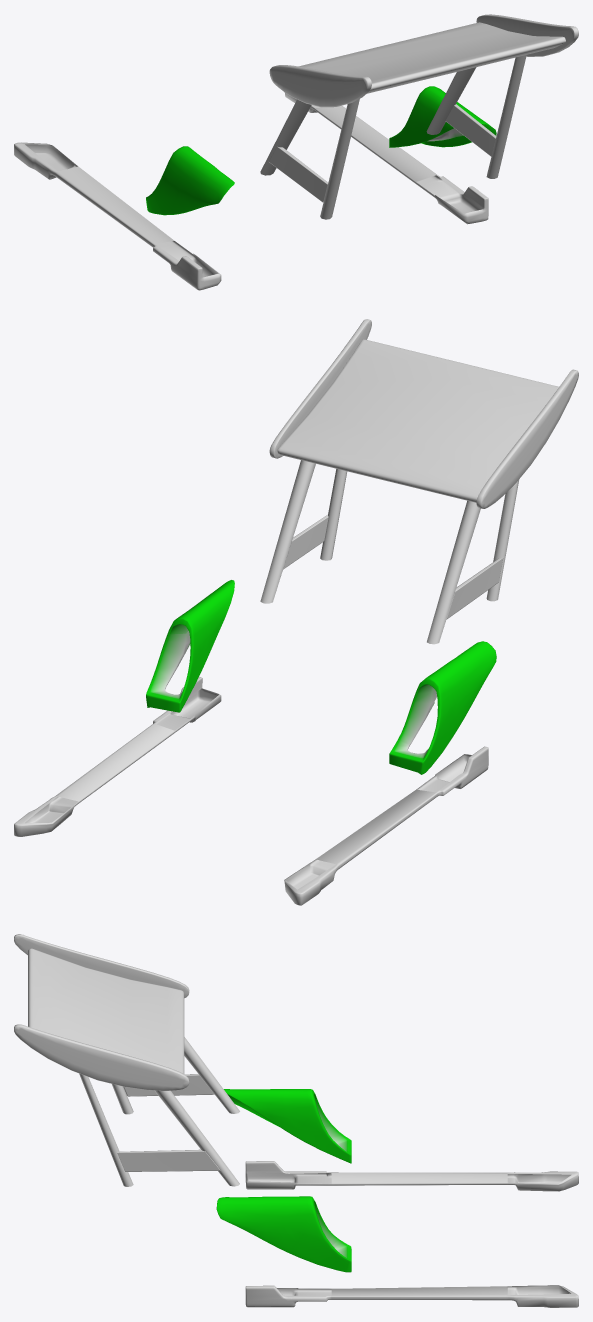
Rendered from CoeTruck_Bodykit_LOD0.fbx.
The picture shows the model from 3 angles, top to bottom: view 1: azimuth 30°, elevation 25°; view 2: azimuth 150°, elevation 25°; view 3: azimuth 270°, elevation 25°; orthographic projection. The views are drawn at different scales.
Visible parts, largest first — view 1: SM_CoeTruck_BodyKit_LOD0; view 2: SM_CoeTruck_BodyKit_LOD0; view 3: SM_CoeTruck_BodyKit_LOD0.
Boxes of the visible parts, x1,y1,x2,y2 form: SM_CoeTruck_BodyKit_LOD0: (14,14,578,290); SM_CoeTruck_BodyKit_LOD0: (14,319,578,905); SM_CoeTruck_BodyKit_LOD0: (14,934,578,1307).
Size of the model in its own units: 2.54 by 4.77 by 2.47.
